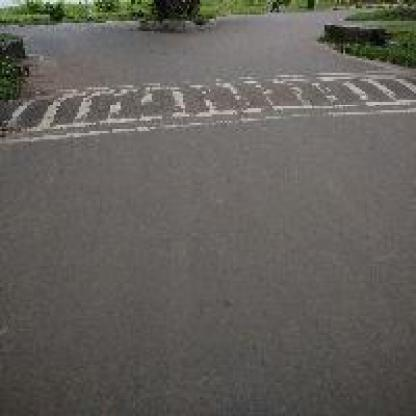Speed Bump: (0, 68, 412, 141)
